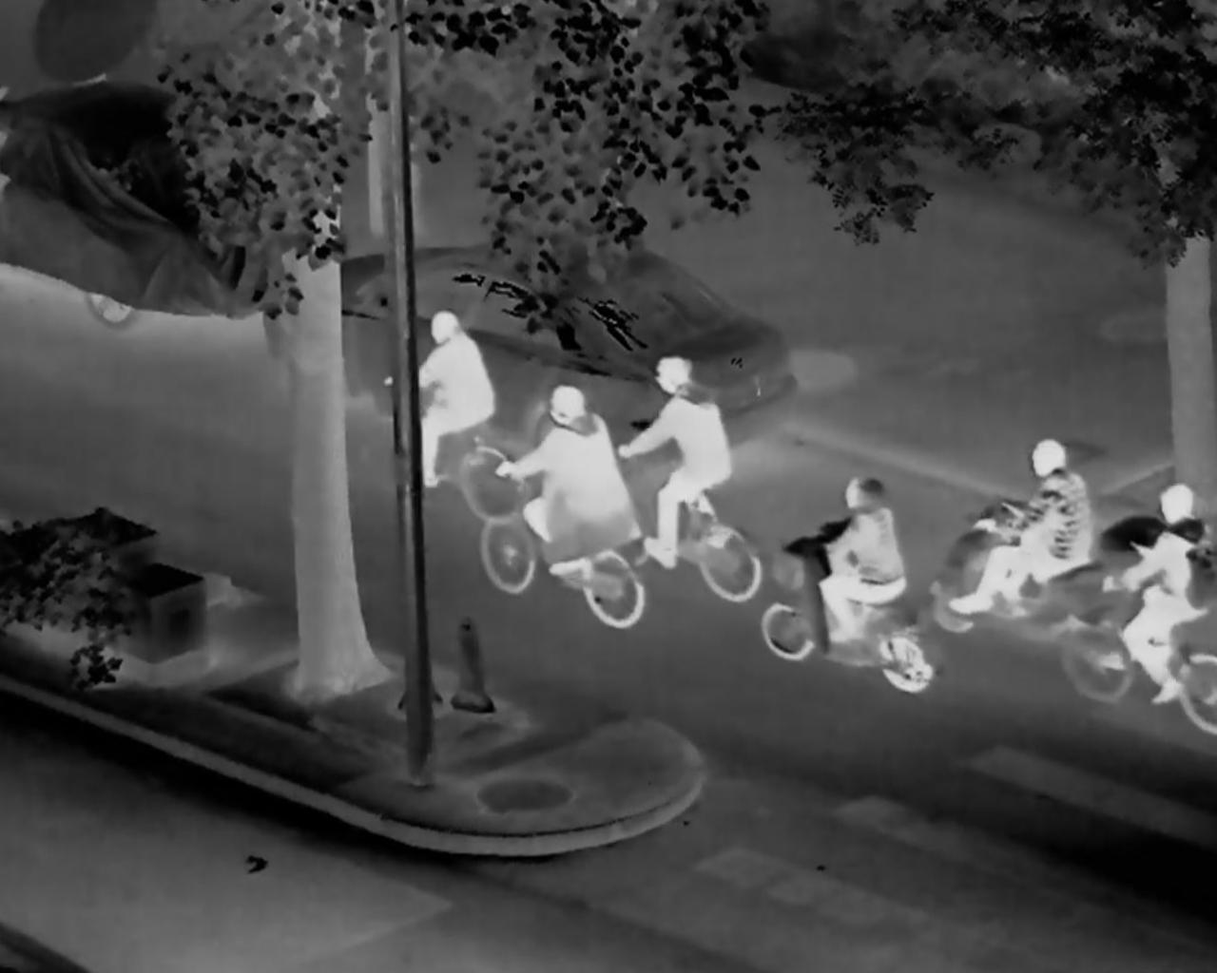person: (497, 387, 634, 582), (1103, 483, 1212, 706), (953, 440, 1090, 615), (623, 360, 731, 567), (392, 313, 496, 486), (819, 478, 905, 642)
